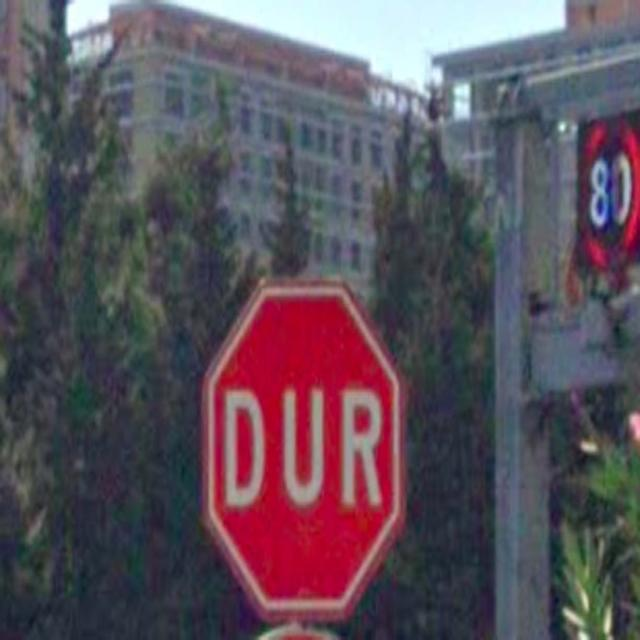dur: (199, 278, 404, 614)
